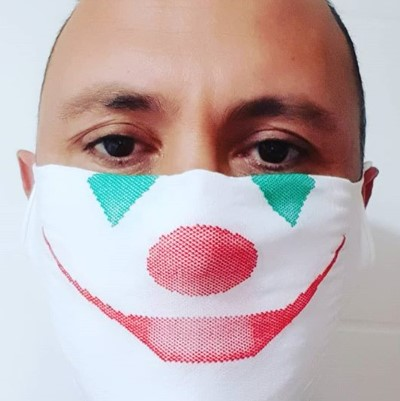face_with_mask: (15, 0, 380, 400)
